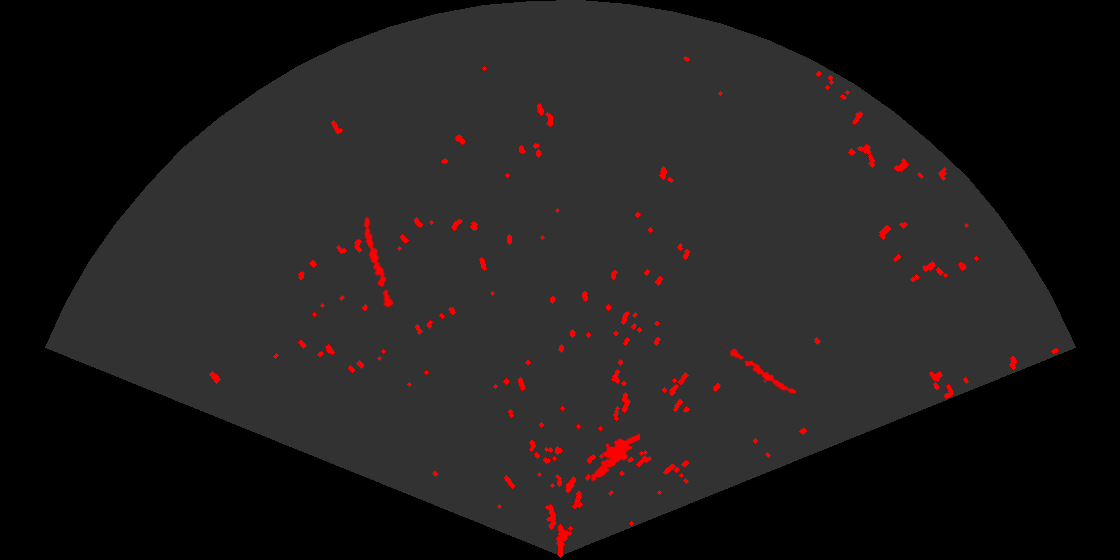chain: (719, 341, 798, 396), (362, 215, 395, 313)
frogman: (589, 432, 640, 483)
